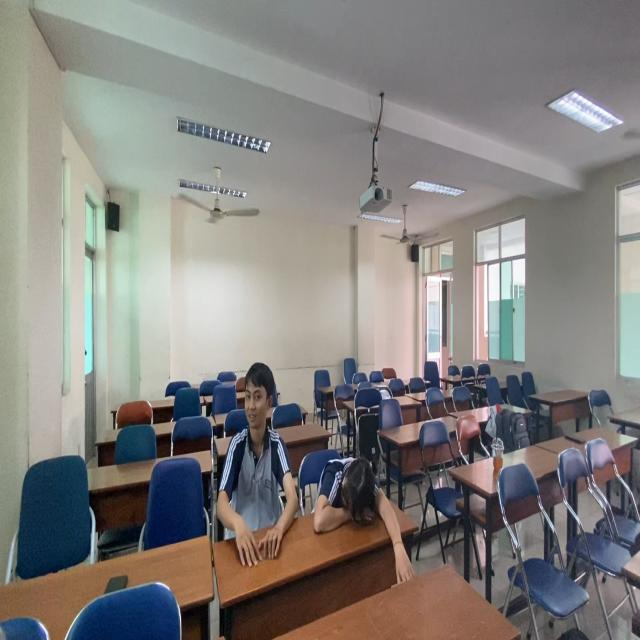sleep: (315, 452, 399, 541)
